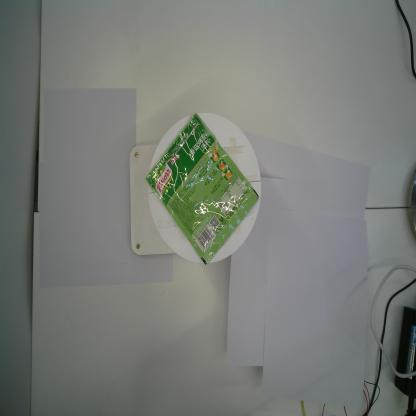Seasoner: (145, 113, 260, 266)
